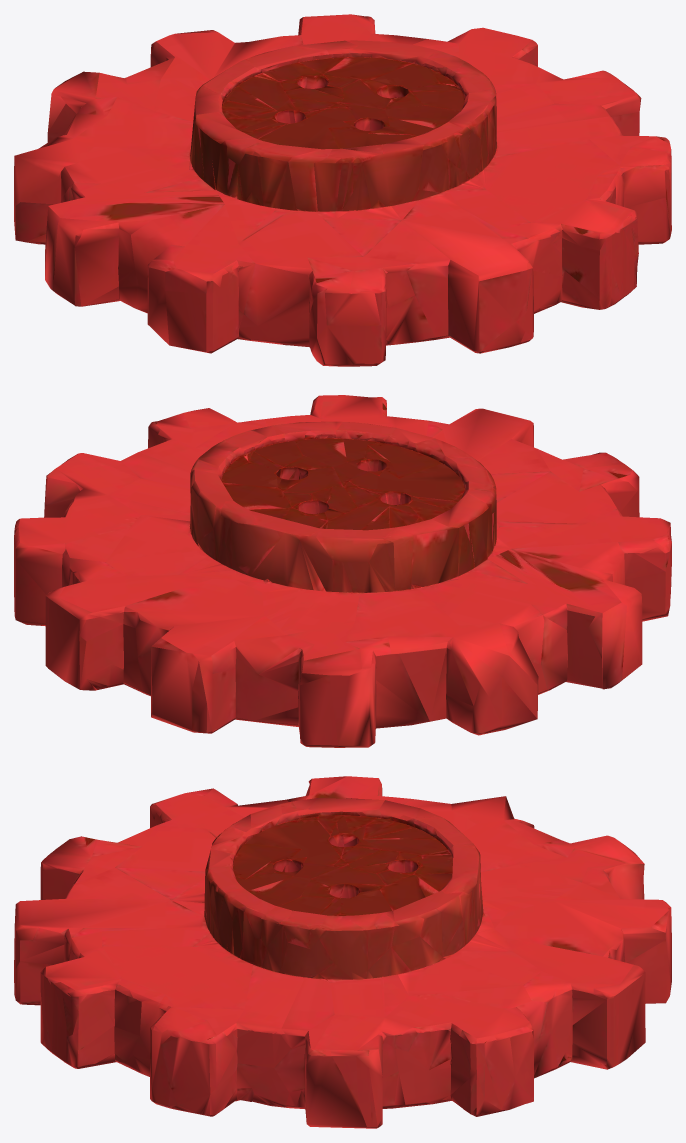
Rendered from gearcog.glb.
3 views of the same model, one above another, from view 1: azimuth 30°, elevation 25°; view 2: azimuth 150°, elevation 25°; view 3: azimuth 270°, elevation 25° (orthographic).
Size of the model in its own units: 1.9 by 0.421 by 1.9.
1 material, 1 textured.
